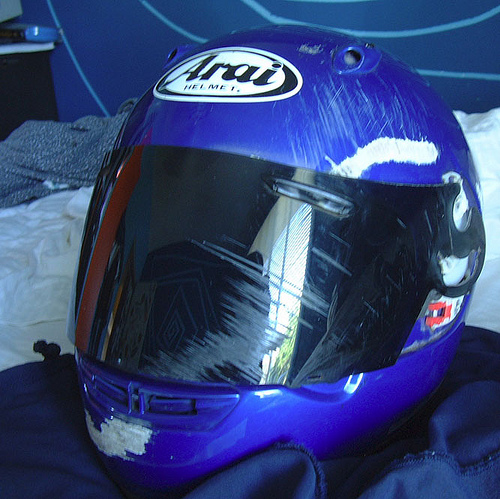helmet: (100, 45, 474, 461)
